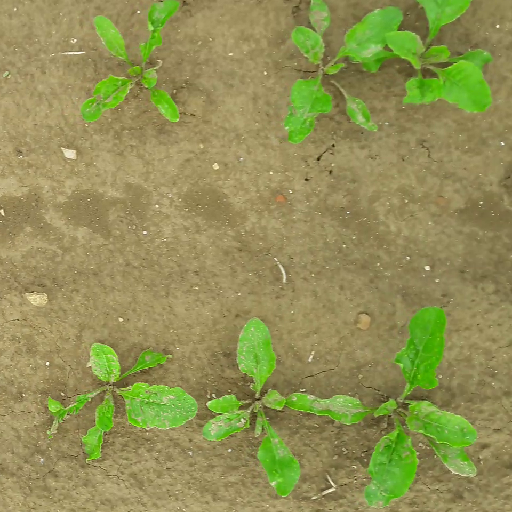sugarbeet: (283, 303, 479, 507), (41, 344, 200, 464), (281, 1, 407, 148), (200, 317, 300, 501), (76, 1, 181, 127), (389, 1, 500, 114)
